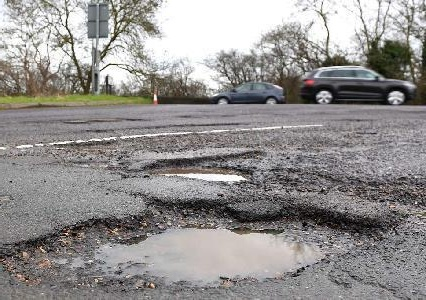pothole: (1, 196, 384, 292), (140, 147, 264, 184), (354, 175, 425, 211), (63, 115, 145, 125), (52, 138, 113, 150)
